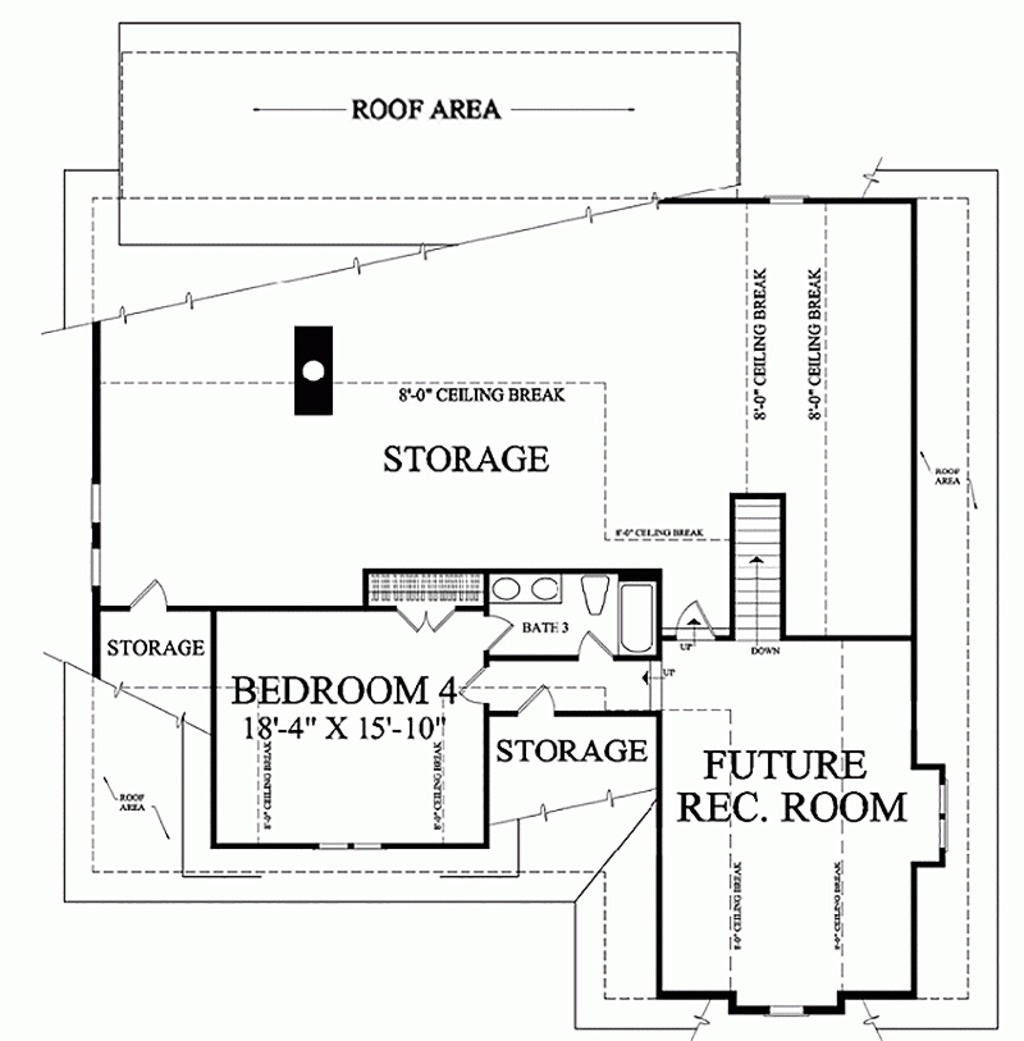door: (122, 571, 198, 627), (656, 592, 710, 654), (383, 595, 458, 635), (502, 671, 558, 720), (568, 624, 622, 668), (469, 606, 512, 657), (460, 665, 493, 708)
large_sink: (577, 571, 609, 630)
small_sink: (480, 574, 568, 606)
stairs: (729, 490, 790, 660)
window: (310, 832, 406, 857), (928, 770, 950, 863), (753, 993, 814, 1025)
